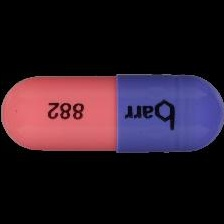42291-321: (0, 0, 224, 224)
